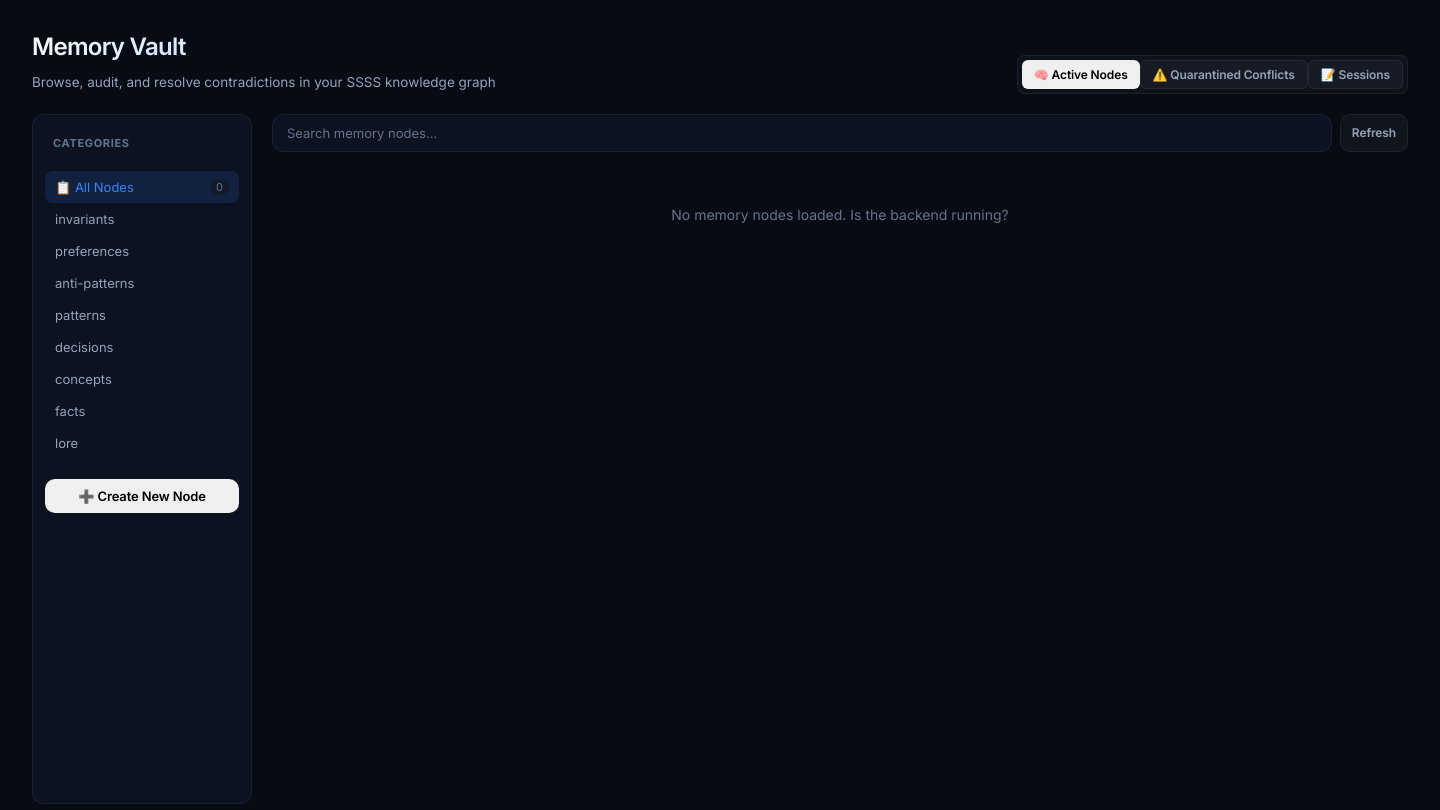
Test: MemoryPage › switches to Sessions tab
Click the button "📝 Sessions" at {"x": 1355, "y": 74}, box [1308, 60, 1403, 89]
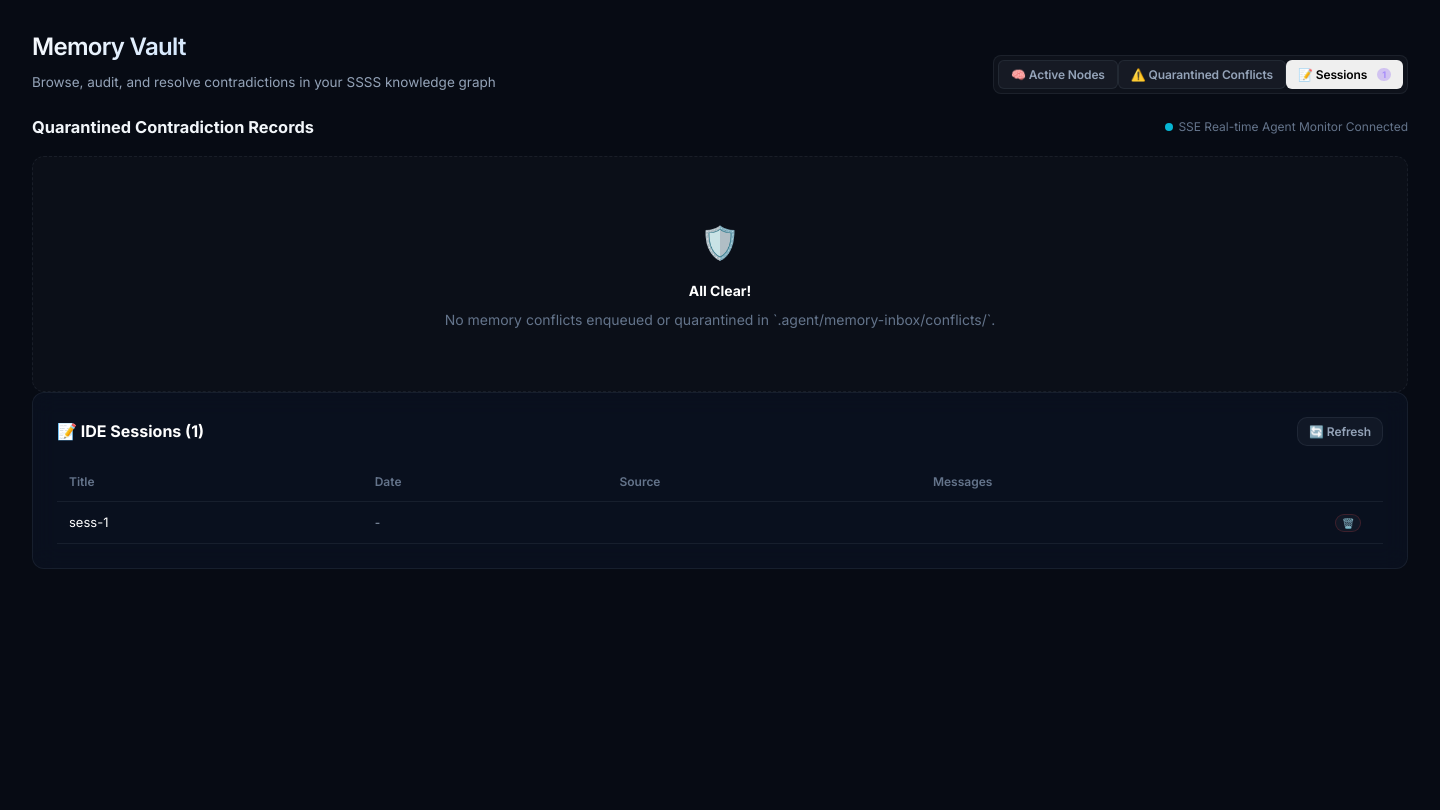
Check: the text "sess-1" is shown, box [57, 502, 363, 544]
